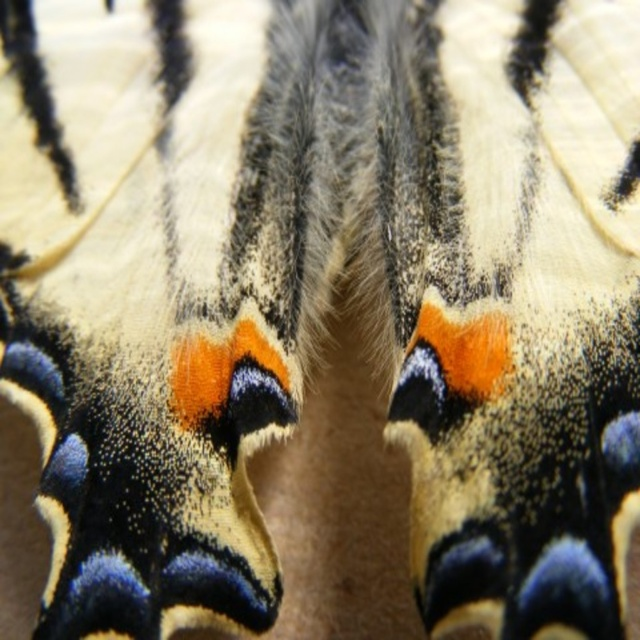Moths and butterflies: (0, 0, 639, 638)
